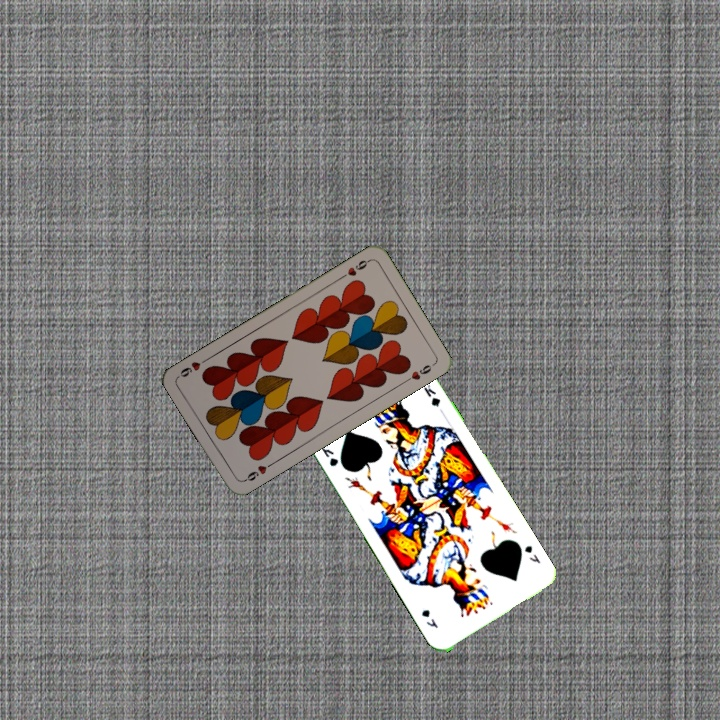GK: (317, 440, 341, 469), (520, 541, 543, 566)
H9: (336, 255, 373, 282), (239, 458, 276, 485)
